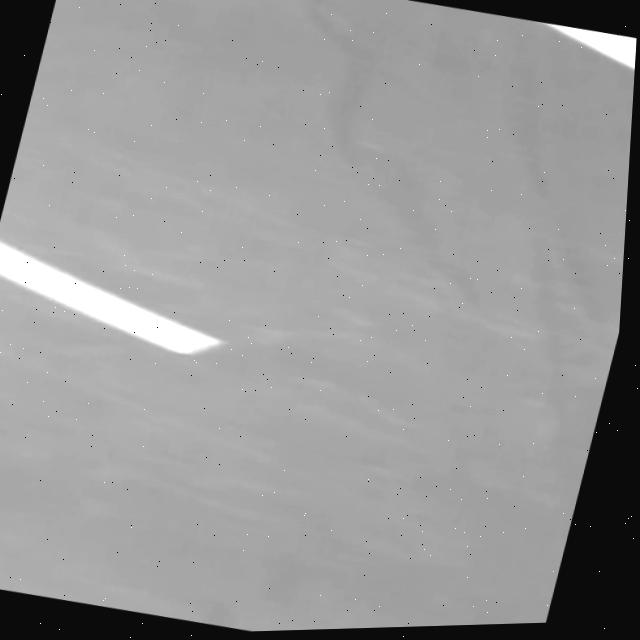center: (0, 239, 224, 352)
left: (546, 22, 637, 67)
